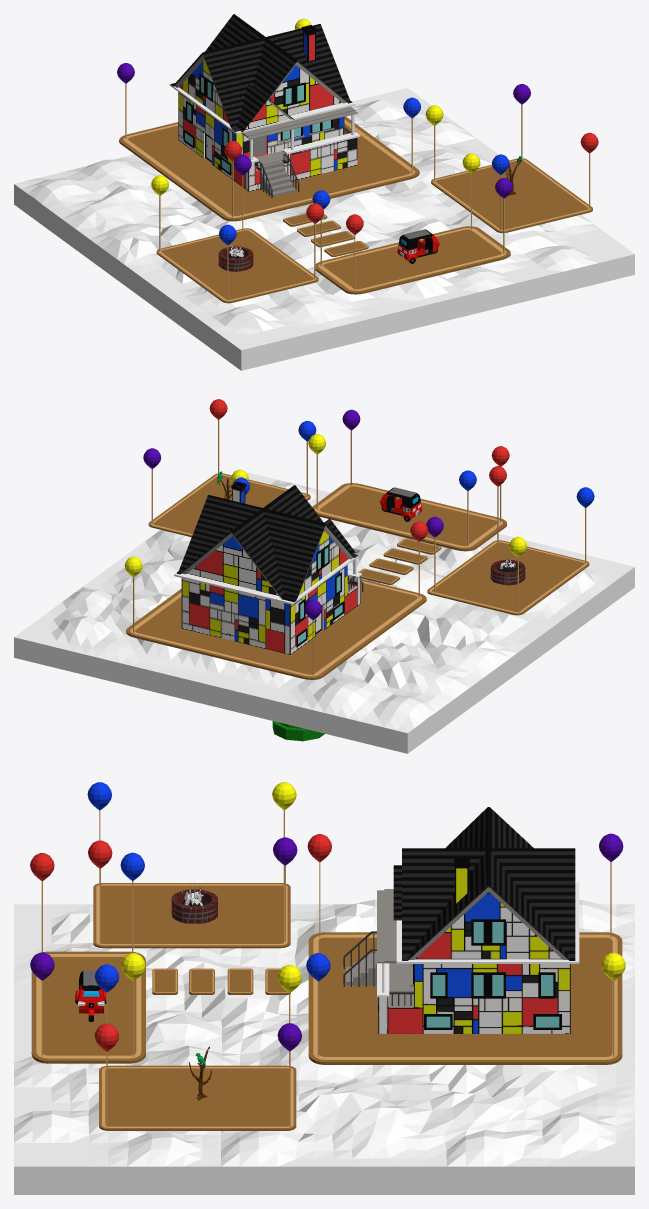
The picture shows the model from 3 angles, top to bottom: view 1: azimuth 30°, elevation 25°; view 2: azimuth 150°, elevation 25°; view 3: azimuth 270°, elevation 25°; orthographic projection. The views are drawn at different scales.
Visible parts, largest first — view 1: Cube.013, Cube.840, VEHICLES_TUC_TUC, OBJRANDOM_CAMPFIRE; view 2: Cube.013, Cube.840, VEHICLES_TUC_TUC, OBJRANDOM_CAMPFIRE, UNDERGROUND_PIPES; view 3: Cube.013, Cube.840, OBJRANDOM_CAMPFIRE, VEHICLES_TUC_TUC.
Boxes of the visible parts, left/top/right/bottom form: Cube.013: left=14, top=18, right=634, bottom=370; Cube.840: left=169, top=14, right=360, bottom=198; VEHICLES_TUC_TUC: left=397, top=229, right=439, bottom=263; OBJRANDOM_CAMPFIRE: left=218, top=245, right=253, bottom=271; Cube.013: left=14, top=399, right=634, bottom=753; Cube.840: left=174, top=481, right=363, bottom=654; VEHICLES_TUC_TUC: left=379, top=487, right=422, bottom=521; OBJRANDOM_CAMPFIRE: left=490, top=559, right=525, bottom=585; UNDERGROUND_PIPES: left=272, top=721, right=324, bottom=741; Cube.013: left=14, top=782, right=634, bottom=1194; Cube.840: left=343, top=807, right=579, bottom=1033; OBJRANDOM_CAMPFIRE: left=171, top=887, right=217, bottom=923; VEHICLES_TUC_TUC: left=75, top=970, right=106, bottom=1021.
Bounding box in the file's own units: 4000 × 2274 × 4000.
Materials: 36 (2 with a texture image).
